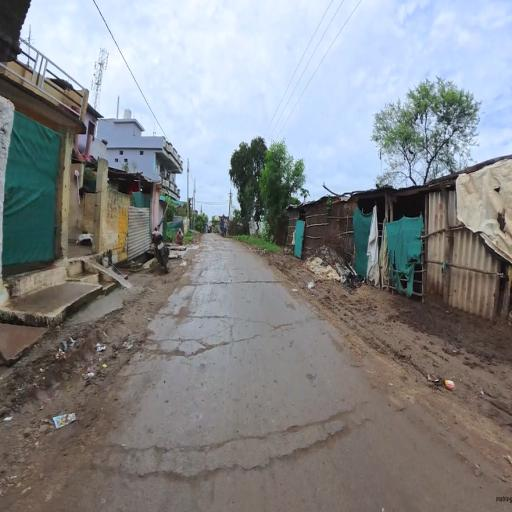longitudinal_crack: (83, 407, 394, 489), (140, 293, 274, 373)
